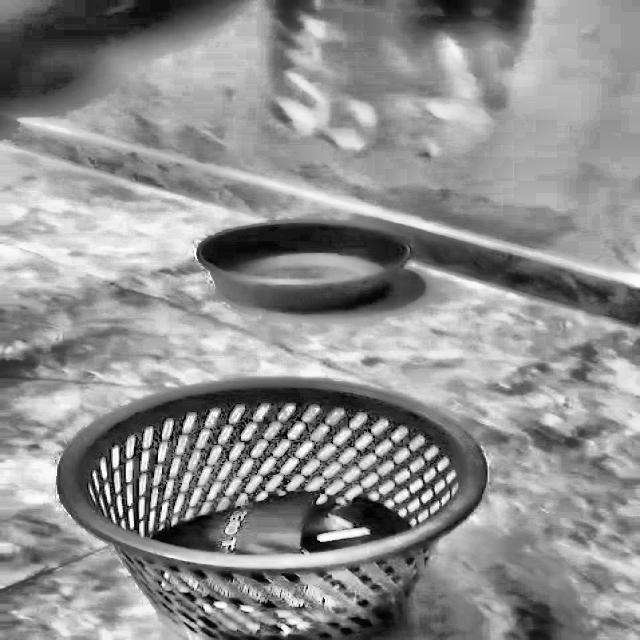Empty: (49, 380, 496, 575)
